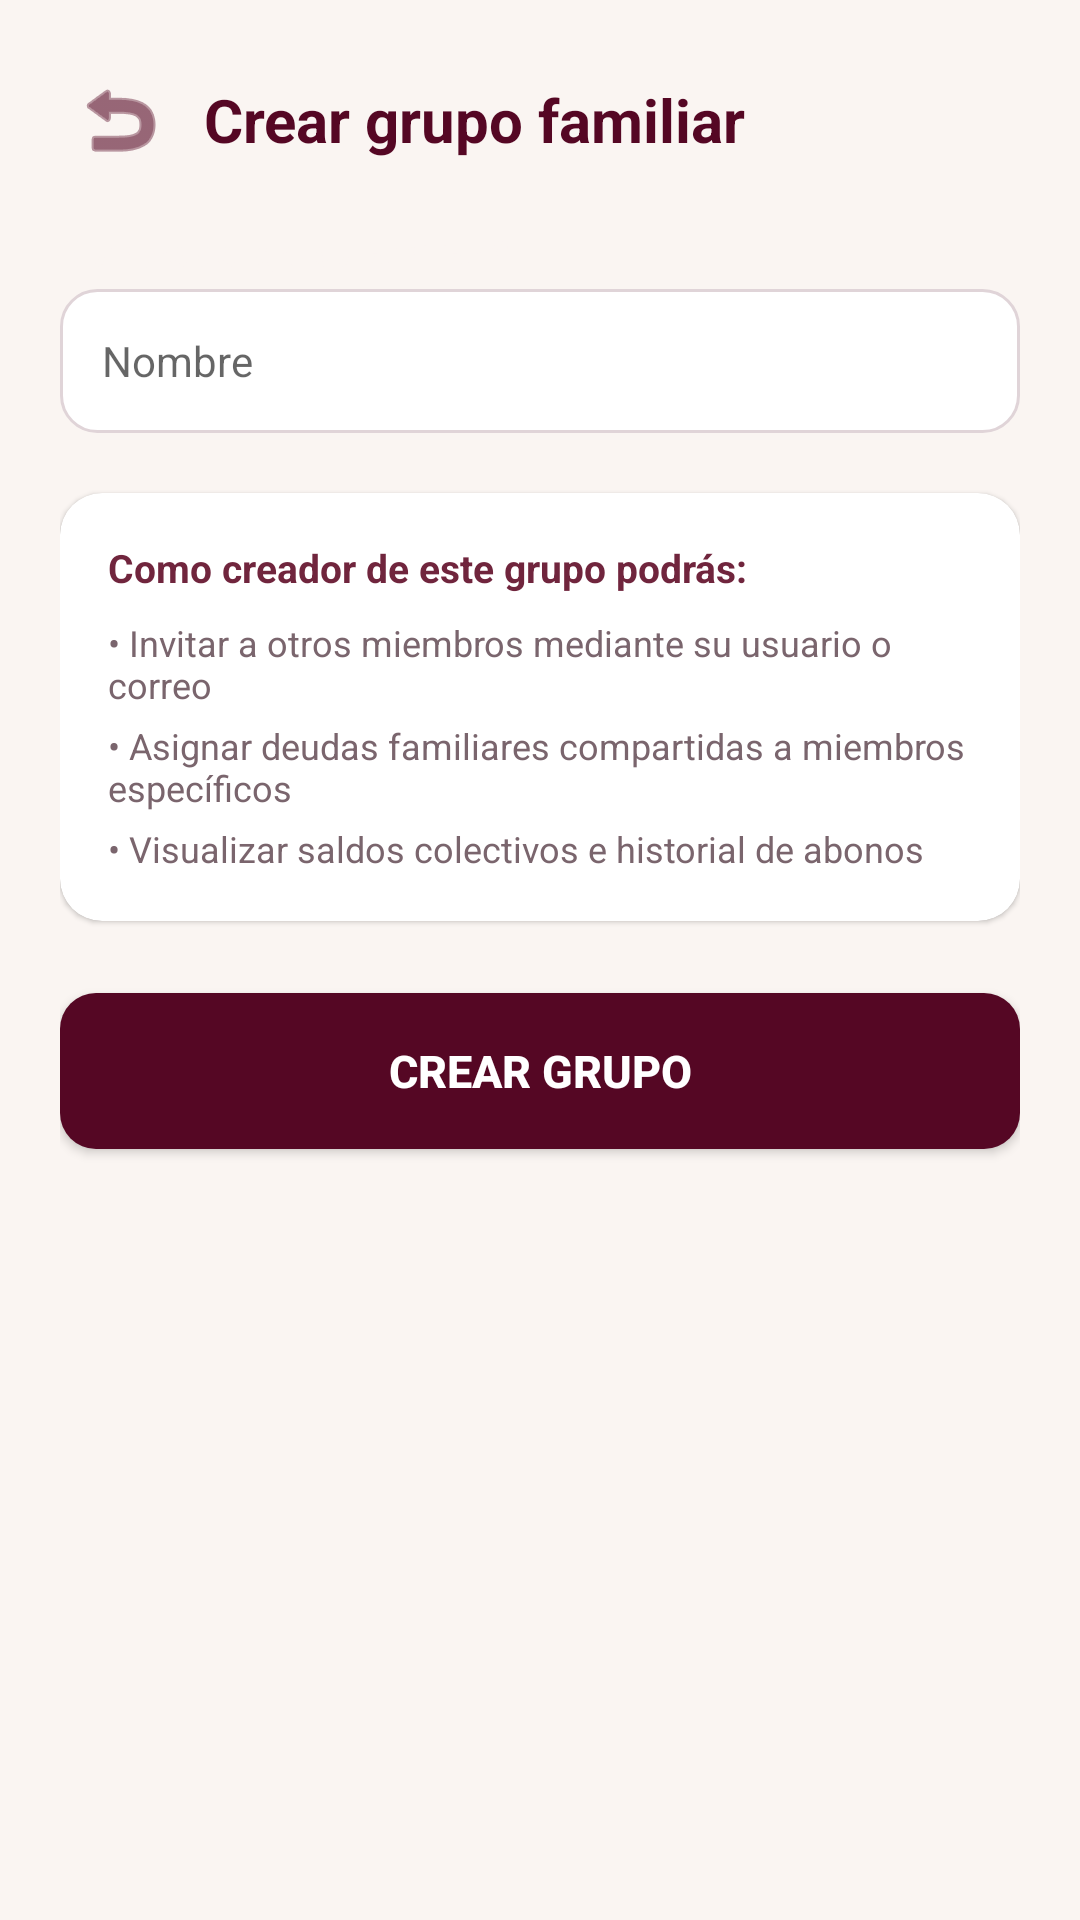

Icons on this 1080x1920 Android screen, each with its box as (x1, y1, x2, y2):
Volver: (87, 89, 156, 152)
